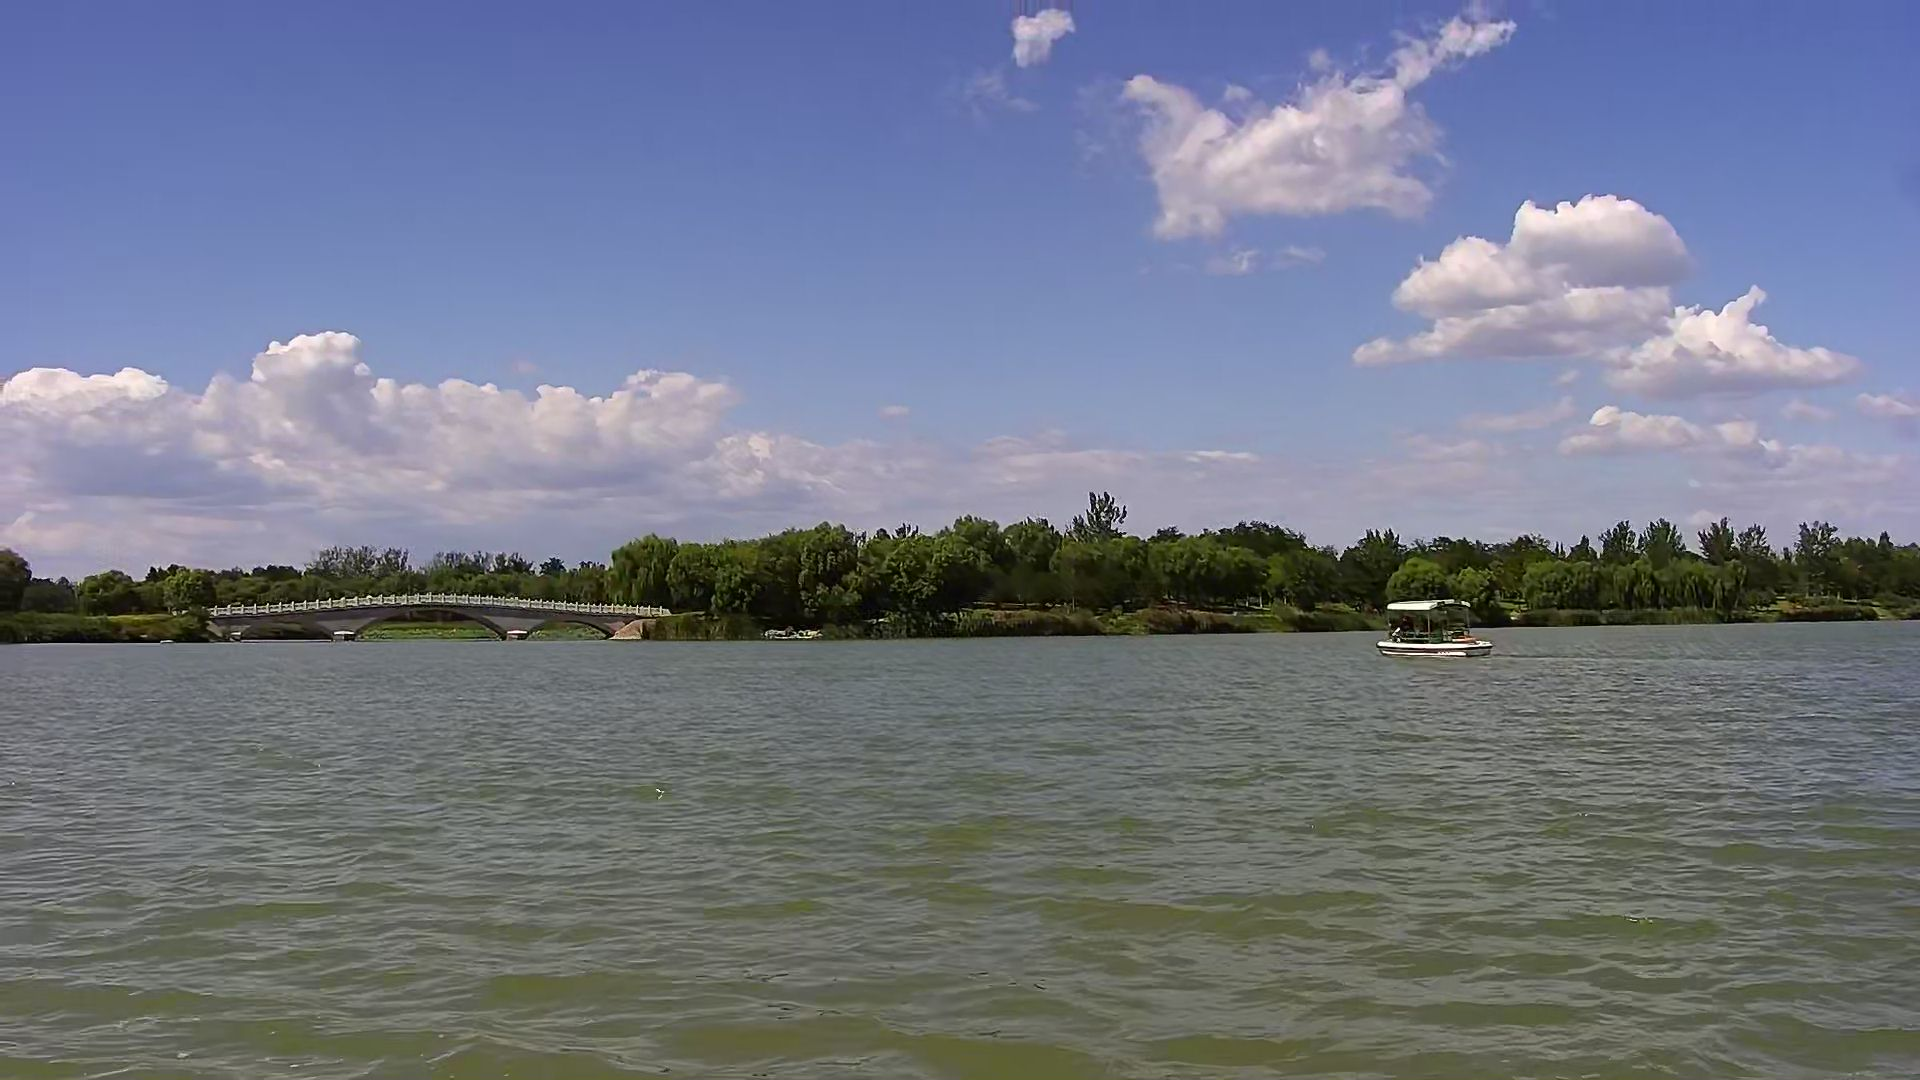boat: (1375, 593, 1491, 654)
bridge: (215, 597, 647, 644)
